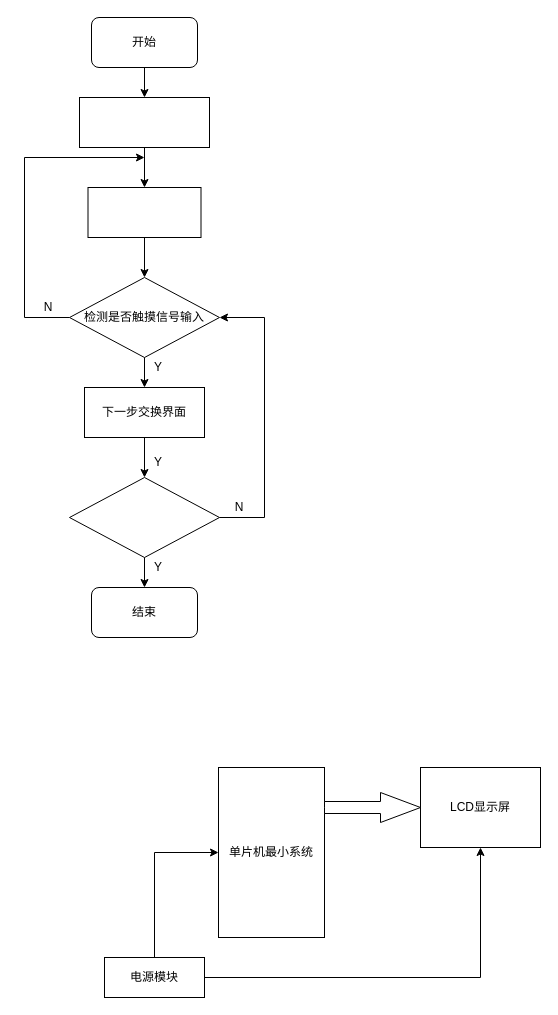
Some shapes in this 558 by 1015 pixel diagram are drawn without their labels. Here are the shapes that lost their labels. From the top down, the box of each, then its label:
(78, 96, 210, 148): 系统初始化
(87, 186, 201, 238): LCD显示交互界面
(68, 476, 220, 558): 操作是否输入完成
